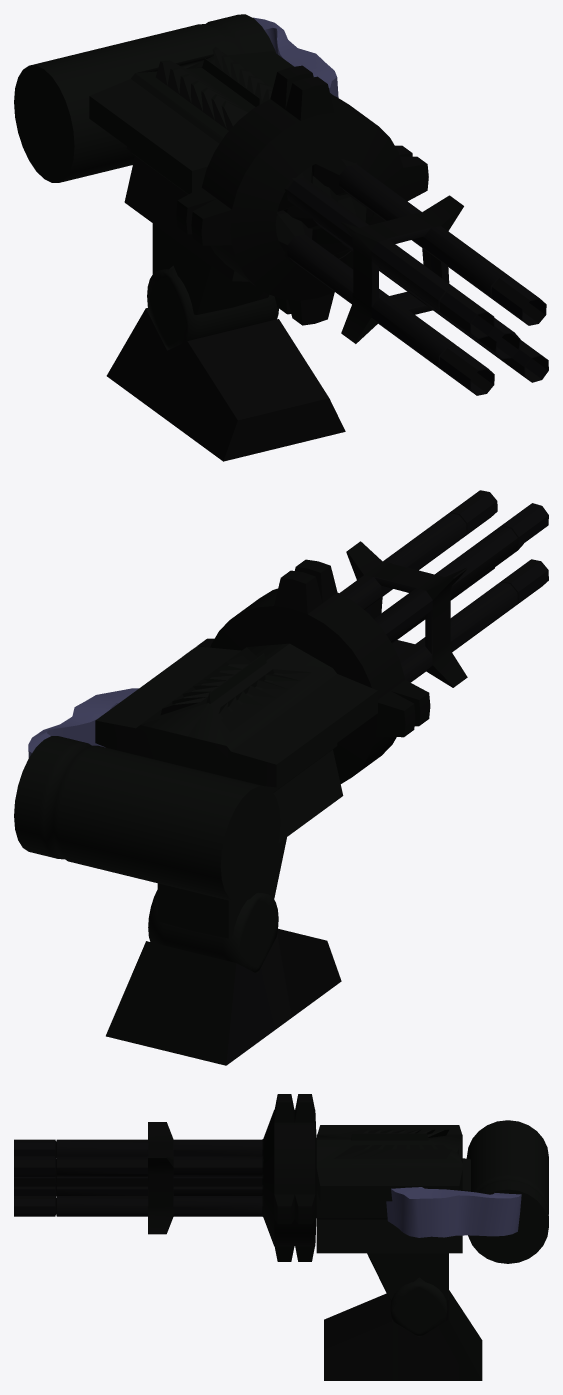
The model's file is WEAP_GATLING_0625.FBX.
The picture shows the model from 3 angles, top to bottom: view 1: azimuth 30°, elevation 25°; view 2: azimuth 150°, elevation 25°; view 3: azimuth 270°, elevation 25°; orthographic projection. The views are drawn at different scales.
Visible parts, largest first — view 1: zyusin_001, Box001, Box002, Circle002, Circle005, Box003; view 2: zyusin_001, Box001, Circle002, Box002, Circle005, Box003; view 3: zyusin_001, Box001, Box002, Circle002, Box003, Circle005.
Part boxes in pixels (box(x1,y1,x2,y2)): zyusin_001: box(176, 65, 548, 395); Box001: box(89, 46, 333, 314); Box002: box(106, 308, 345, 461); Circle002: box(14, 14, 275, 182); Circle005: box(147, 268, 278, 349); Box003: box(253, 17, 338, 97); zyusin_001: box(186, 490, 548, 783); Box001: box(95, 643, 377, 938); Circle002: box(14, 736, 280, 902); Box002: box(106, 928, 341, 1065); Circle005: box(148, 890, 278, 972); Box003: box(28, 688, 138, 757); zyusin_001: box(14, 1094, 316, 1261); Box001: box(316, 1125, 470, 1299); Box002: box(324, 1290, 482, 1380); Circle002: box(466, 1120, 548, 1263); Box003: box(386, 1187, 521, 1237); Circle005: box(390, 1277, 447, 1335).
Bounding box in the file's own units: 140 × 211 × 391.
